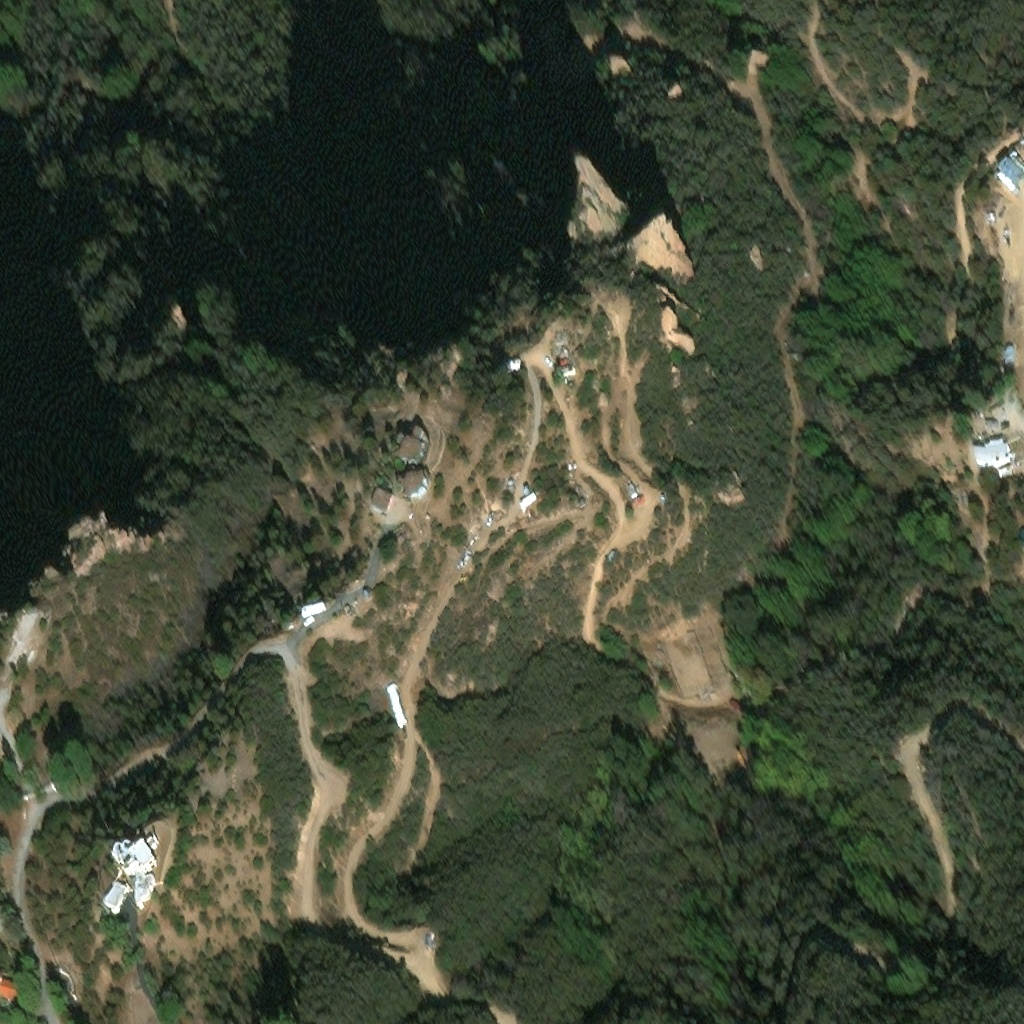0 no-damage: (109, 841, 162, 915), (390, 431, 428, 468), (996, 154, 1023, 199), (968, 427, 1012, 452), (104, 883, 129, 913), (403, 478, 429, 505), (370, 488, 393, 512), (0, 972, 19, 999)
4 un-classified: (386, 684, 407, 728), (15, 616, 40, 646), (300, 607, 328, 621), (522, 504, 541, 521), (985, 391, 1005, 407), (555, 334, 570, 350), (499, 354, 520, 365), (628, 491, 641, 508), (1004, 345, 1015, 362), (992, 453, 1008, 464), (304, 619, 318, 631), (1015, 522, 1023, 540), (424, 931, 435, 943), (562, 373, 578, 381), (611, 560, 620, 573), (988, 215, 995, 223)
